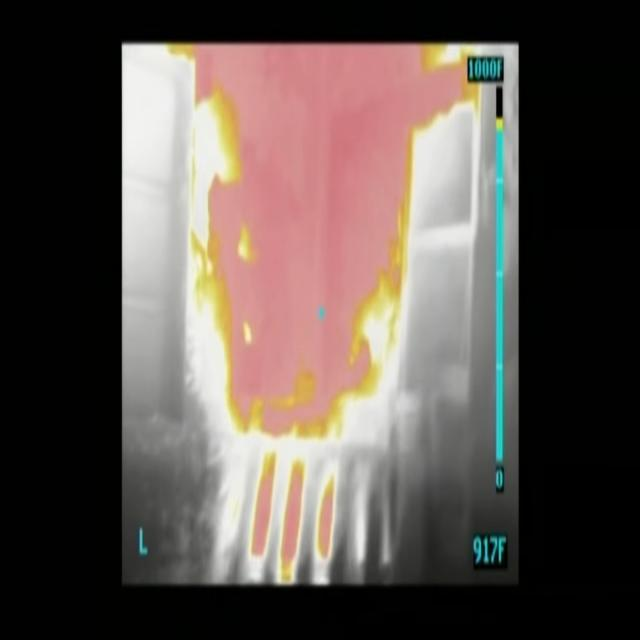fire: (170, 47, 479, 445)
